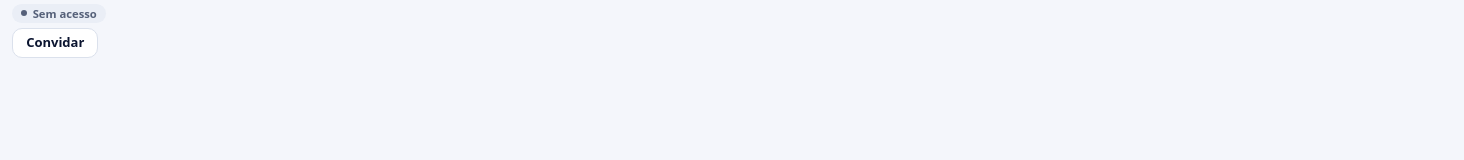
Test: CelulaAcesso › sem acesso: convida pelo e-mail e mostra a mensagem do servidor
The width and height of the screenshot is (1464, 160).
Expected: the text "Sem acesso" is shown, [12,4,106,23]
Click the button with aria-label "Convidar Ana".
click(55, 43)  # box [12,28,98,58]
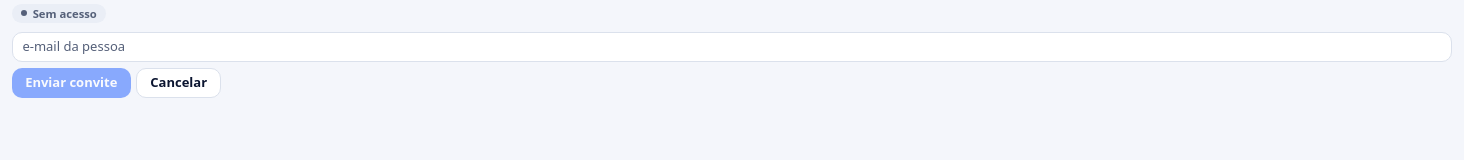
Expected: the button "Enviar convite" is disabled, [12,68,130,98]
Type "ana@x.com" into the field named "E-mail de Ana".
click(732, 47); type("ana@x.com")  # box [12,32,1452,62]
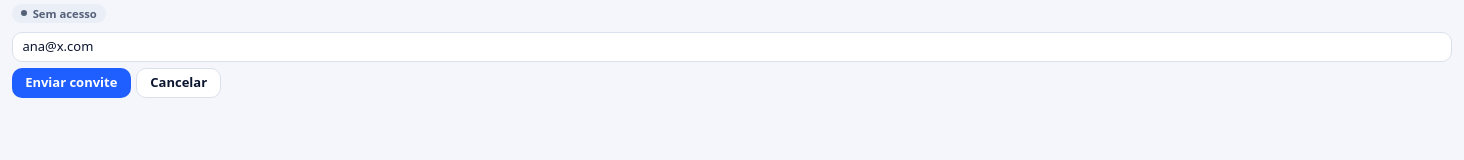
Click the button "Enviar convite".
click(71, 83)  # box [12,68,130,98]
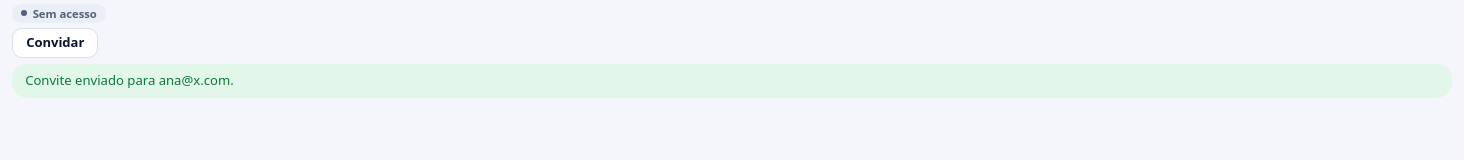
Expected: the text "Convite enviado para ana@x.com." is shown, [12,64,1452,98]
